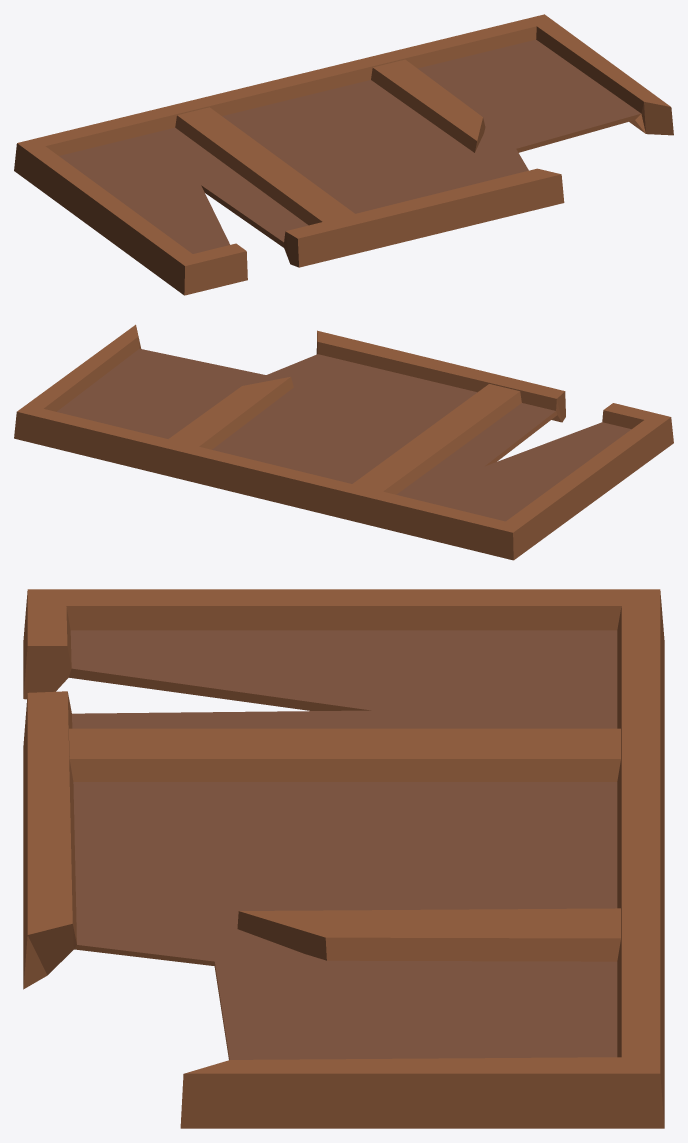
The model's file is Caixa_4_Tampa_quebrada.fbx.
3 renders of one model, top to bottom at view 1: azimuth 30°, elevation 25°; view 2: azimuth 150°, elevation 25°; view 3: azimuth 270°, elevation 25°, orthographic. The views are drawn at different scales.
Parts seen in each view (by area): view 1: Caixa_4_Tampa_quebrada; view 2: Caixa_4_Tampa_quebrada; view 3: Caixa_4_Tampa_quebrada.
Boxes of the visible parts, left/top/right/bottom form: Caixa_4_Tampa_quebrada: left=14, top=14, right=673, bottom=295; Caixa_4_Tampa_quebrada: left=14, top=324, right=673, bottom=560; Caixa_4_Tampa_quebrada: left=23, top=589, right=664, bottom=1128.
Bounding box in the file's own units: 0.7997 × 1.44 × 0.0751.
